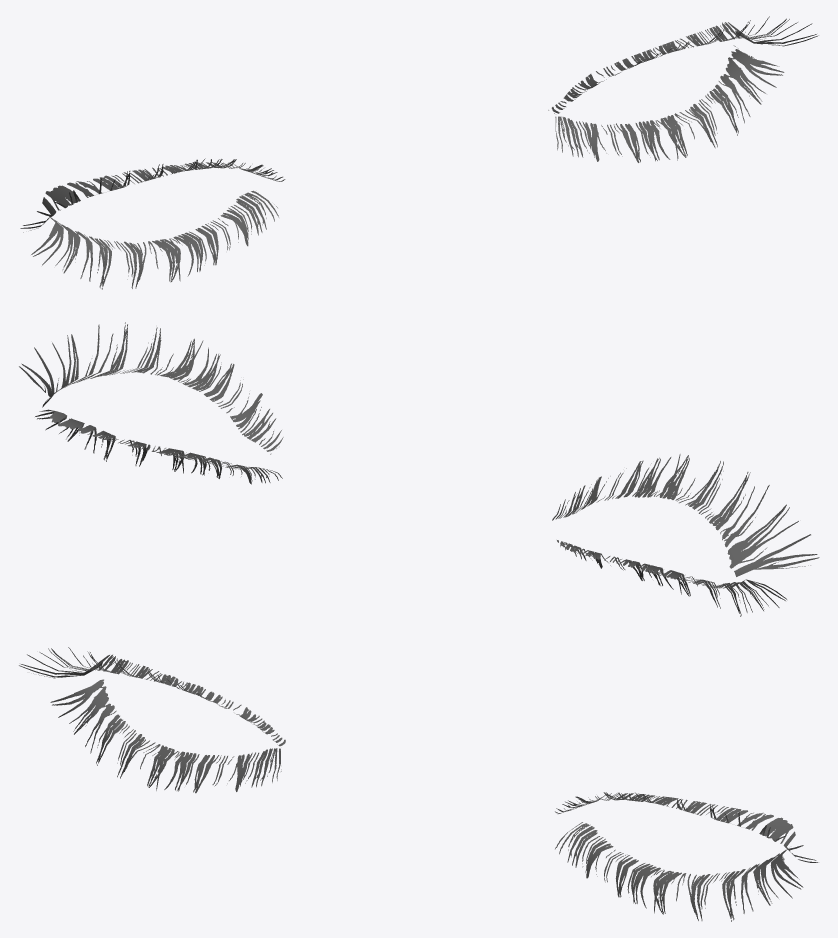
File: lashes.glb
3 renders of one model, top to bottom at view 1: azimuth 30°, elevation 25°; view 2: azimuth 150°, elevation 25°; view 3: azimuth 330°, elevation 25°, orthographic.
Parts seen in each view (by area): view 1: editor_lashes; view 2: editor_lashes; view 3: editor_lashes.
Boxes of the visible parts, x1,y1,x2,y2 form: editor_lashes: (20,16,818,289); editor_lashes: (19,322,819,616); editor_lashes: (19,647,818,921).
Size of the model in its own units: 0.0944 by 0.0154 by 0.0116.
1 material, 1 textured.
